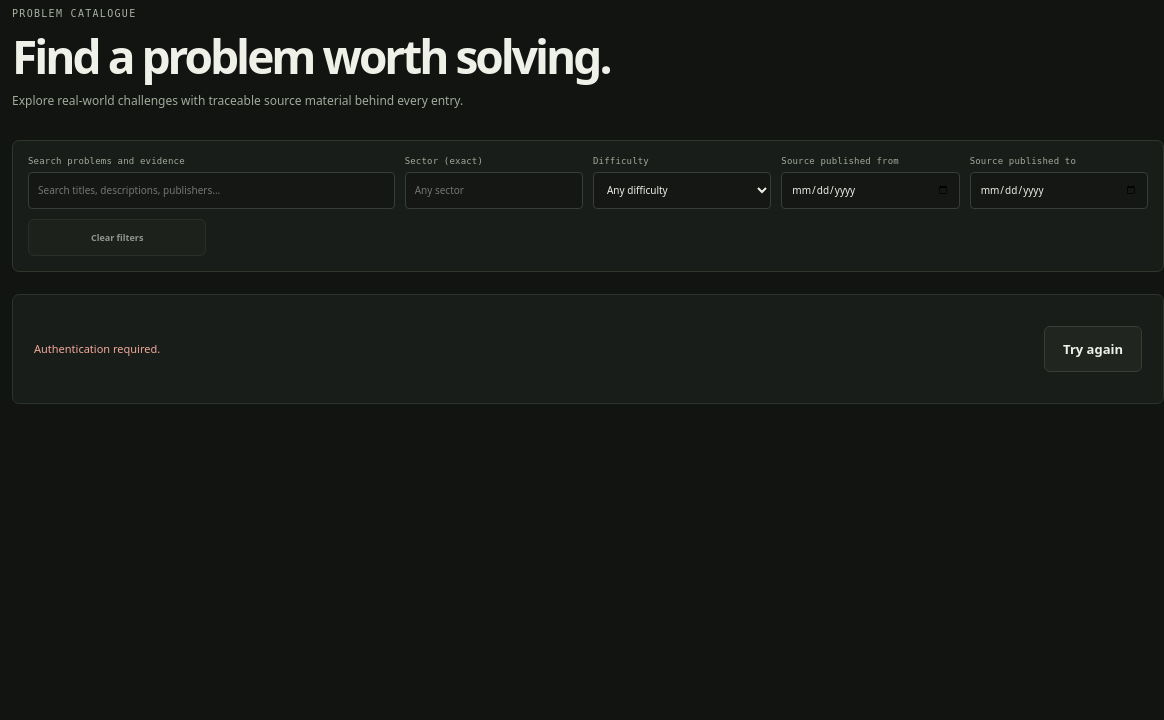
ProblemDiscoveryPage › shows API errors and retries without replacing them with sample problems
Expected: the message shows "Authentication required.", top-left (34, 341), bottom-right (160, 356)
Click the button "Try again": [1093, 349] box top-left (1044, 326), bottom-right (1142, 372)
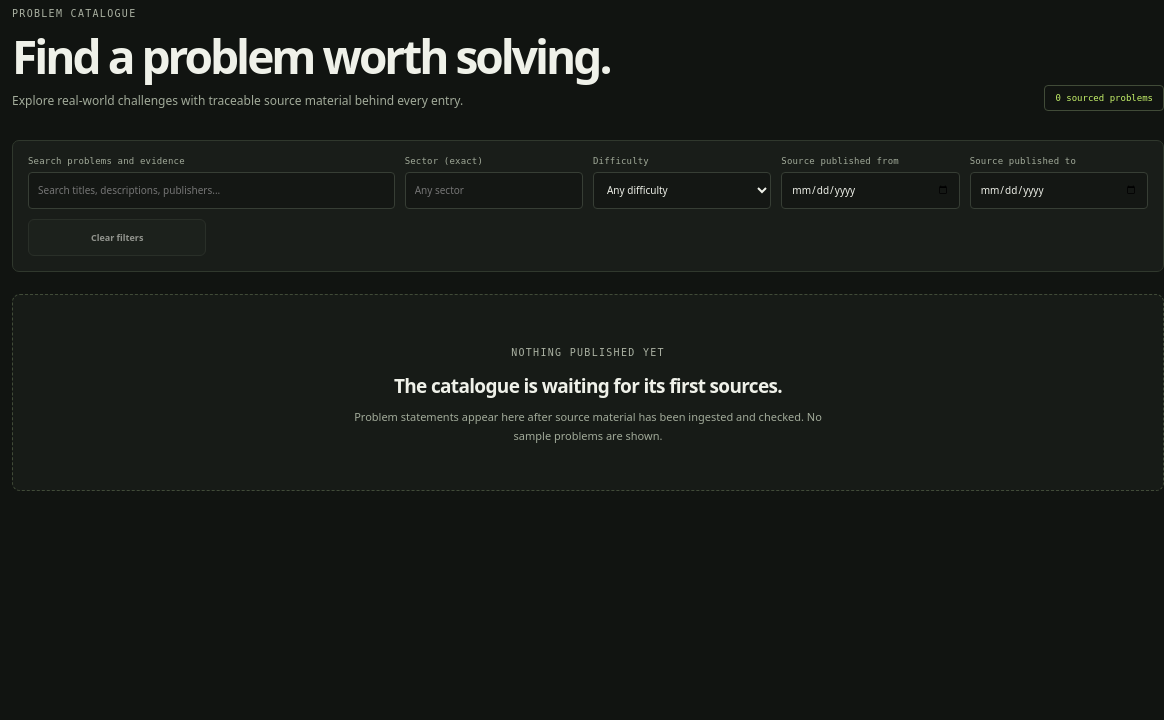
Result: the heading "The catalogue is waiting for its first sources." is shown at top-left (394, 373), bottom-right (782, 399)
